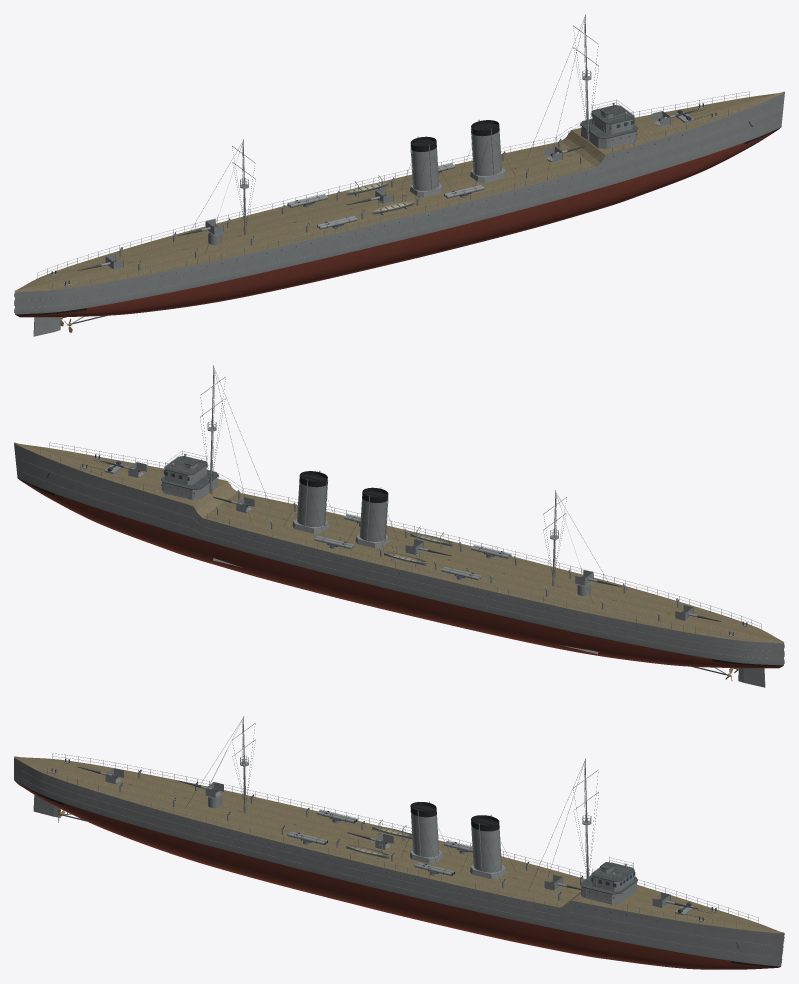
The model's file is c_class_cl.glb.
The picture shows the model from 3 angles, top to bottom: view 1: azimuth 30°, elevation 25°; view 2: azimuth 150°, elevation 25°; view 3: azimuth 330°, elevation 25°; orthographic projection.
Visible parts, largest first — view 1: C class (Caledon/Ceres/Carlisle groups); view 2: C class (Caledon/Ceres/Carlisle groups); view 3: C class (Caledon/Ceres/Carlisle groups).
Boxes of the visible parts, box(x1,y1,x2,y2) form: C class (Caledon/Ceres/Carlisle groups): box(14, 14, 784, 336); C class (Caledon/Ceres/Carlisle groups): box(14, 365, 784, 687); C class (Caledon/Ceres/Carlisle groups): box(14, 716, 784, 969).
Bounding box in the file's own units: 137 × 32.34 × 13.09.
Materials: 9 (8 with a texture image).
